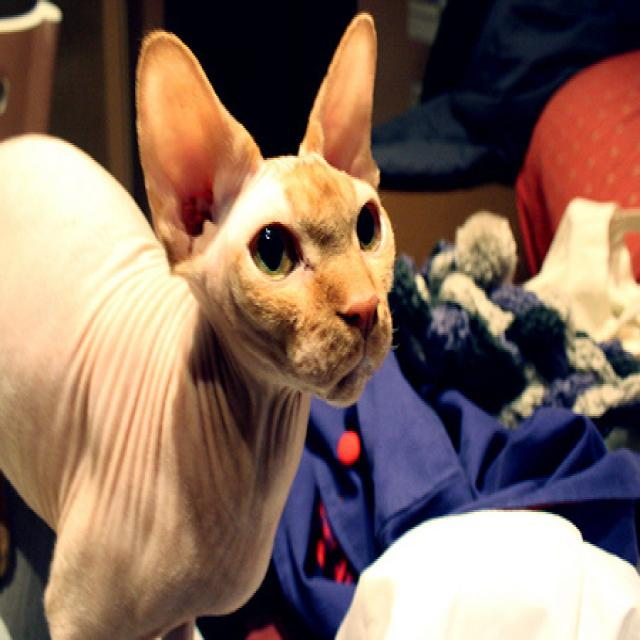Sphynx: (0, 8, 398, 640)
